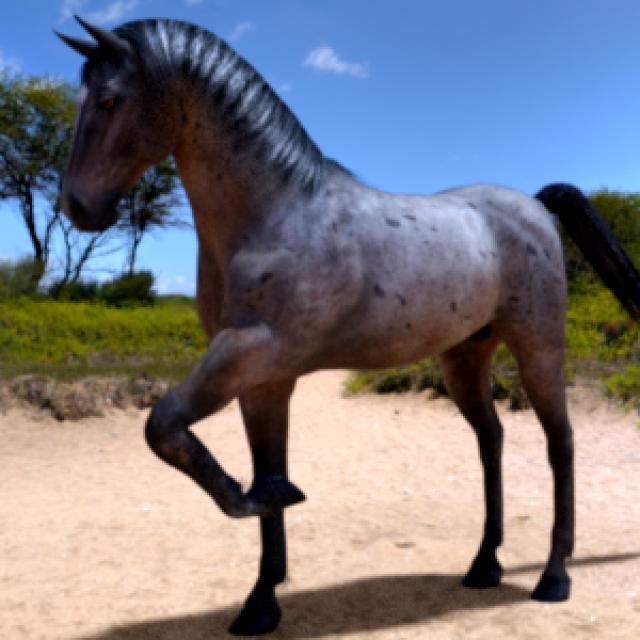horse: (60, 20, 640, 634)
